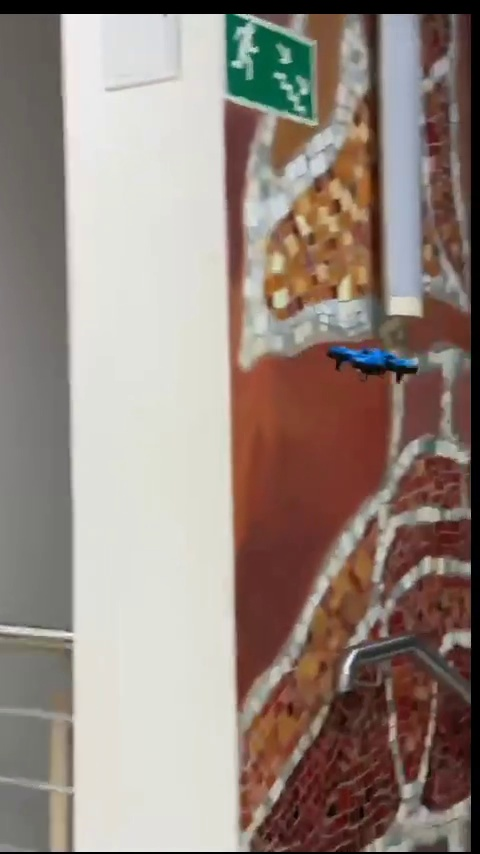drone: (328, 345, 427, 387)
